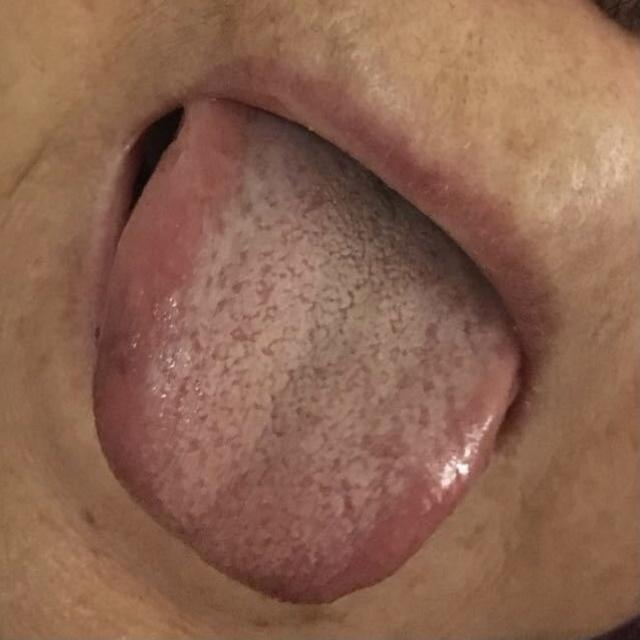baitaishe: (93, 96, 521, 605)
